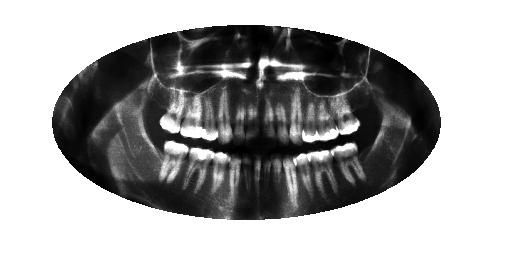caries: (260, 84, 278, 150), (246, 93, 260, 141), (271, 153, 284, 198), (243, 152, 254, 203), (262, 154, 273, 202)
fractura: (178, 148, 216, 195), (307, 147, 340, 200), (331, 141, 368, 186), (159, 138, 189, 191), (294, 151, 319, 205), (300, 83, 320, 144), (180, 97, 204, 139), (161, 90, 182, 136), (337, 95, 361, 134), (203, 86, 219, 144), (317, 99, 337, 140)
